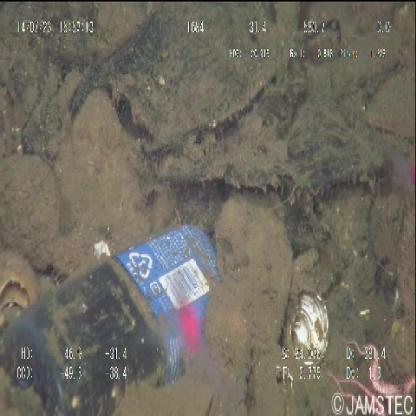Rác: (0, 221, 221, 414)
